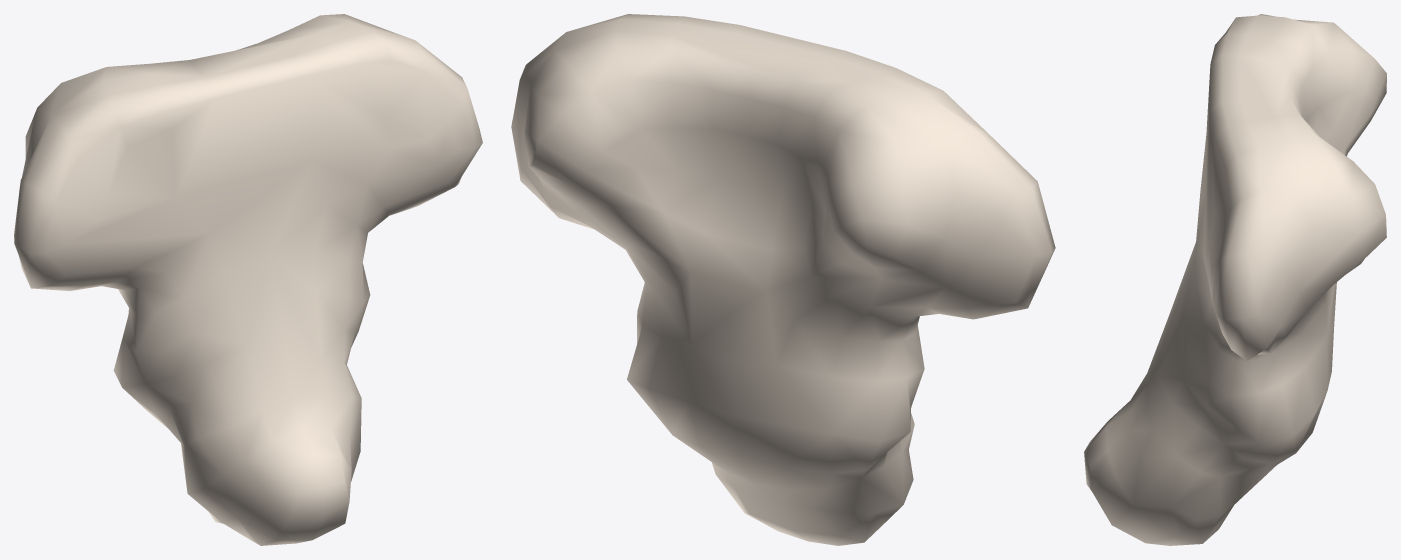
File: coccyx.glb
3 renders of one model, left to right at view 1: azimuth 30°, elevation 25°; view 2: azimuth 150°, elevation 25°; view 3: azimuth 270°, elevation 25°, orthographic. The views are drawn at different scales.
Parts seen in each view (by area): view 1: Coccyx; view 2: Coccyx; view 3: Coccyx.
Part boxes in pixels (x1=…): Coccyx: x1=14, y1=14, x2=482, y2=545; Coccyx: x1=511, y1=14, x2=1055, y2=545; Coccyx: x1=1084, y1=14, x2=1386, y2=545.
Size of the model in its own units: 0.0206 by 0.0189 by 0.0113.
